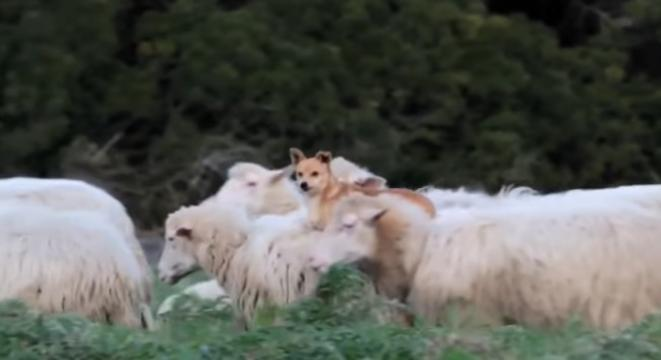sheep: (313, 180, 661, 354), (159, 197, 358, 357)
